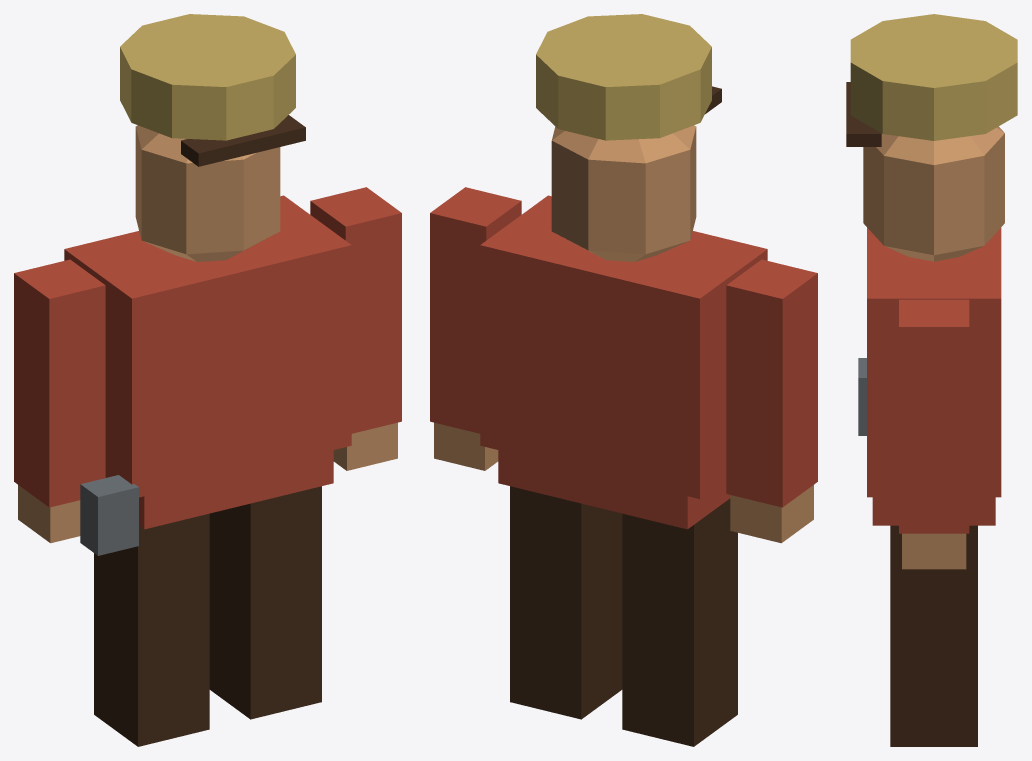
File: npc_tukang_peci.obj
3 views of the same model, side by side, from view 1: azimuth 30°, elevation 25°; view 2: azimuth 150°, elevation 25°; view 3: azimuth 270°, elevation 25° (orthographic).
Parts seen in each view (by area): view 1: torso, leg_r, leg_l, arm_l, peci, head, arm_r, waist, tool_belt, peci_brim, hand_l, hand_r; view 2: torso, leg_l, leg_r, arm_l, peci, head, arm_r, waist, hand_l, hand_r; view 3: torso, peci, arm_r, leg_r, head, hand_r, waist, peci_brim, tool_belt.
Boxes of the visible parts, x1,y1,x2,y2 form: torso: [64, 195, 351, 497]; leg_r: [209, 486, 321, 719]; leg_l: [94, 513, 209, 746]; arm_l: [14, 259, 105, 507]; peci: [120, 14, 295, 140]; head: [135, 125, 280, 261]; arm_r: [310, 187, 401, 433]; waist: [139, 450, 333, 529]; tool_belt: [80, 475, 138, 555]; peci_brim: [181, 115, 305, 166]; hand_l: [18, 485, 80, 543]; hand_r: [333, 422, 397, 470]; torso: [480, 195, 767, 499]; leg_l: [622, 498, 737, 746]; leg_r: [510, 486, 622, 719]; arm_l: [726, 259, 817, 507]; peci: [536, 14, 711, 140]; head: [551, 125, 696, 261]; arm_r: [430, 187, 521, 433]; waist: [498, 450, 730, 529]; hand_l: [730, 485, 813, 543]; hand_r: [434, 422, 498, 470]; torso: [867, 227, 1001, 497]; peci: [850, 14, 1017, 140]; arm_r: [899, 299, 969, 533]; leg_r: [890, 525, 977, 746]; head: [863, 126, 1004, 261]; hand_r: [902, 533, 966, 569]; waist: [872, 497, 995, 525]; peci_brim: [846, 82, 881, 146]; tool_belt: [858, 358, 866, 435].
Bounding box in the file's own units: 1.38 × 2.46 × 0.5853.
